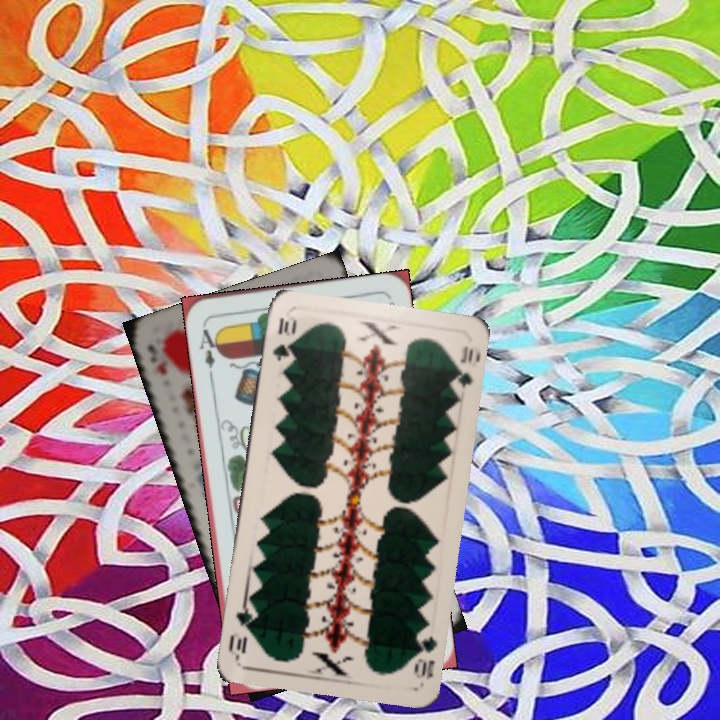EA: (195, 320, 223, 371)
G10: (409, 624, 440, 682), (268, 313, 297, 363)
HK: (143, 341, 171, 377)
